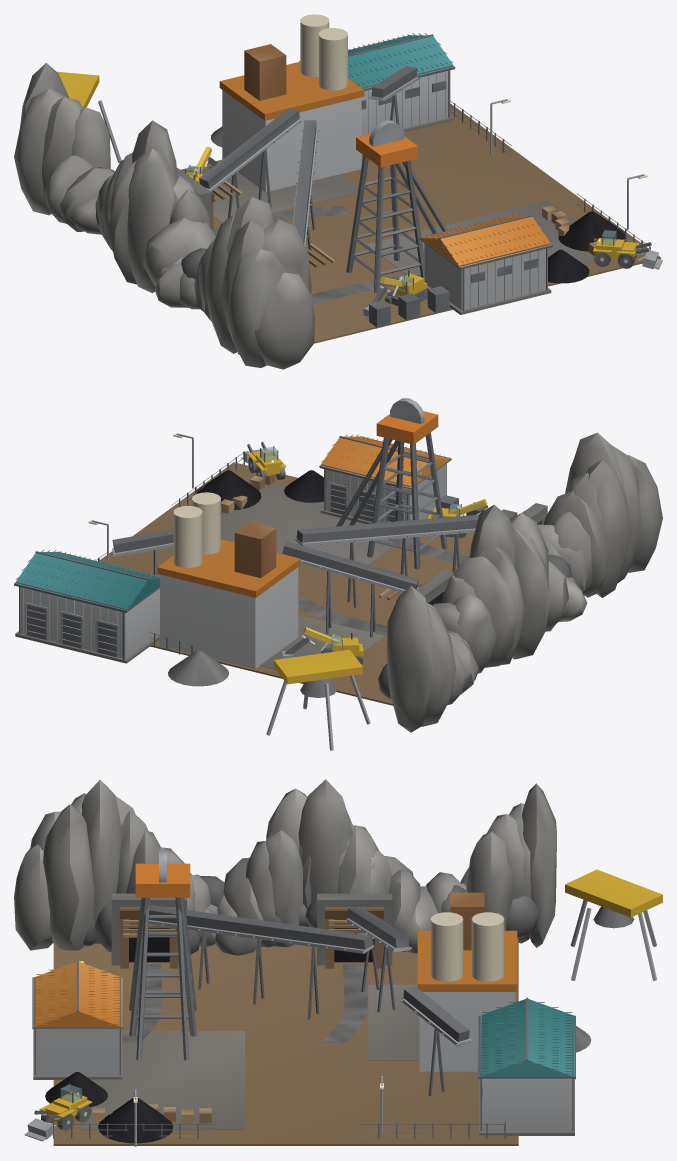
Rendered from Mine_P2.fbx.
The picture shows the model from 3 angles, top to bottom: view 1: azimuth 30°, elevation 25°; view 2: azimuth 150°, elevation 25°; view 3: azimuth 270°, elevation 25°; orthographic projection. The views are drawn at different scales.
Visible parts, largest first — view 1: Mine.Cliff, Mine.Apron, Mine.Plant, Mine.Winder, Mine.Crusher, Mine.Headframe, Mine.Conv1, Mine.Clutter, Mine.Conv0, Mine.Loader, Mine.Spoil0, Mine.LoadGantry (+7 smaller); view 2: Mine.Cliff, Mine.Plant, Mine.Apron, Mine.Crusher, Mine.Headframe, Mine.Winder, Mine.Conv0, Mine.LoadGantry, Mine.Conv1, Mine.Spoil2, Mine.Spoil0, Mine.ConvOut (+9 smaller); view 3: Mine.Apron, Mine.Cliff, Mine.Crusher, Mine.Plant, Mine.Winder, Mine.Headframe, Mine.Conv0, Mine.LoadGantry, Mine.Adit1, Mine.Adit0, Mine.Spoil0, Mine.Conv1 (+7 smaller).
Part boxes in pixels (<box>): Mine.Cliff: <box>14,63,314,369</box>; Mine.Apron: <box>180,104,660,343</box>; Mine.Plant: <box>219,14,364,192</box>; Mine.Winder: <box>419,213,552,314</box>; Mine.Crusher: <box>299,33,455,135</box>; Mine.Headframe: <box>346,120,447,293</box>; Mine.Conv1: <box>199,107,301,218</box>; Mine.Clutter: <box>369,205,598,327</box>; Mine.Conv0: <box>292,120,319,251</box>; Mine.Loader: <box>593,229,662,269</box>; Mine.Spoil0: <box>558,211,626,251</box>; Mine.LoadGantry: <box>57,71,121,162</box>; Mine.Cliff: <box>378,432,662,732</box>; Mine.Plant: <box>157,492,300,668</box>; Mine.Apron: <box>100,462,474,705</box>; Mine.Crusher: <box>14,550,159,663</box>; Mine.Headframe: <box>336,398,447,569</box>; Mine.Winder: <box>319,434,451,523</box>; Mine.Conv0: <box>295,512,512,607</box>; Mine.LoadGantry: <box>266,649,370,750</box>; Mine.Conv1: <box>282,541,419,637</box>; Mine.Spoil2: <box>168,650,228,686</box>; Mine.Spoil0: <box>194,470,261,510</box>; Mine.ConvOut: <box>112,529,173,575</box>; Mine.Apron: <box>53,938,518,1145</box>; Mine.Cliff: <box>14,779,556,955</box>; Mine.Crusher: <box>478,997,575,1135</box>; Mine.Plant: <box>417,892,517,1071</box>; Mine.Winder: <box>32,960,123,1079</box>; Mine.Headframe: <box>129,850,196,1060</box>; Mine.Conv0: <box>148,905,374,1019</box>; Mine.LoadGantry: <box>565,869,662,980</box>; Mine.Adit1: <box>317,893,392,968</box>; Mine.Adit0: <box>111,893,186,968</box>; Mine.Spoil0: <box>98,1098,173,1143</box>; Mine.Conv1: <box>345,906,411,1012</box>.
Size of the model in its own units: 8526 by 3154 by 9487.
